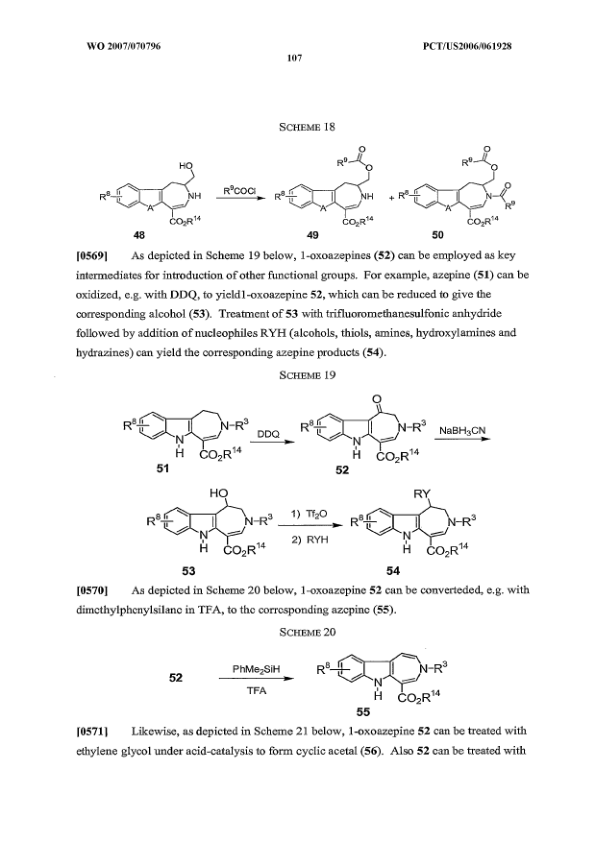compound-structure: (140, 479, 274, 560), (397, 144, 520, 232), (119, 389, 247, 472), (300, 386, 429, 466), (87, 152, 209, 235), (351, 484, 480, 562), (309, 646, 457, 705), (275, 148, 379, 227)
reaction: (80, 371, 500, 568), (71, 141, 527, 239), (194, 638, 478, 713)
reaction-arrow: (209, 662, 296, 699), (281, 508, 343, 550), (434, 420, 493, 446), (214, 179, 265, 209), (254, 426, 293, 452)
